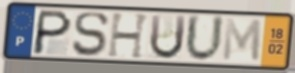H: (106, 12, 152, 61)
M: (221, 17, 263, 64)
P: (30, 8, 75, 57)
S: (71, 10, 111, 58)
U: (183, 13, 226, 64), (147, 13, 188, 62)
